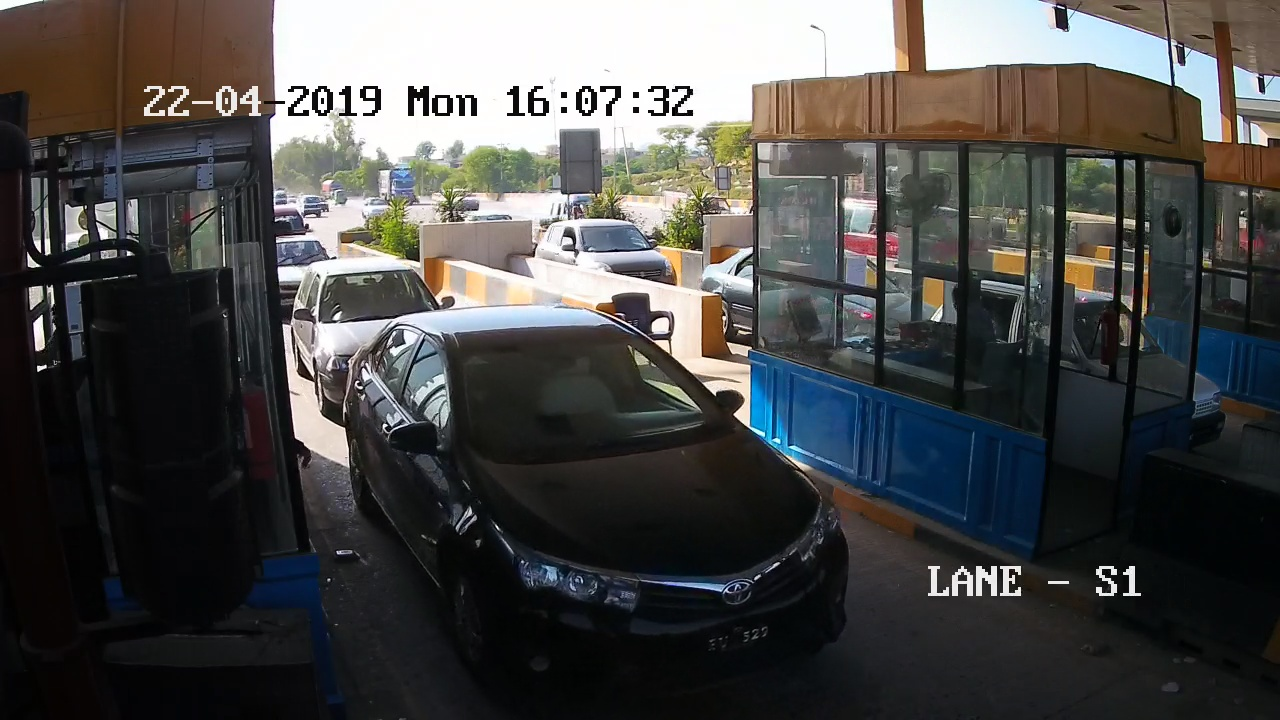Number Plate (Car): (701, 623, 772, 652)
